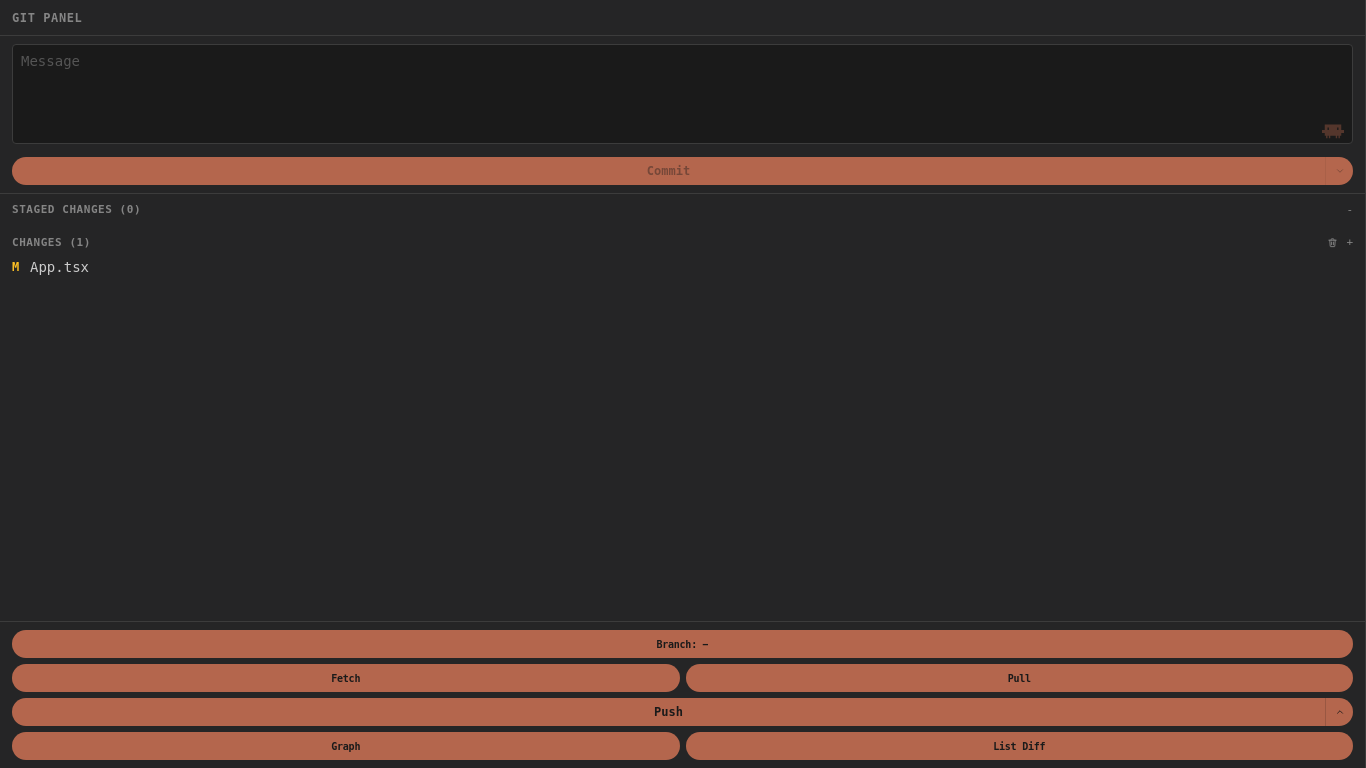
Test case: GitPanel — Discard All Changes › opens a confirmation modal instead of discarding immediately
Step 1. Click the button named "Discard All Changes" → (1333, 243), box left=1327, top=237, right=1338, bottom=248
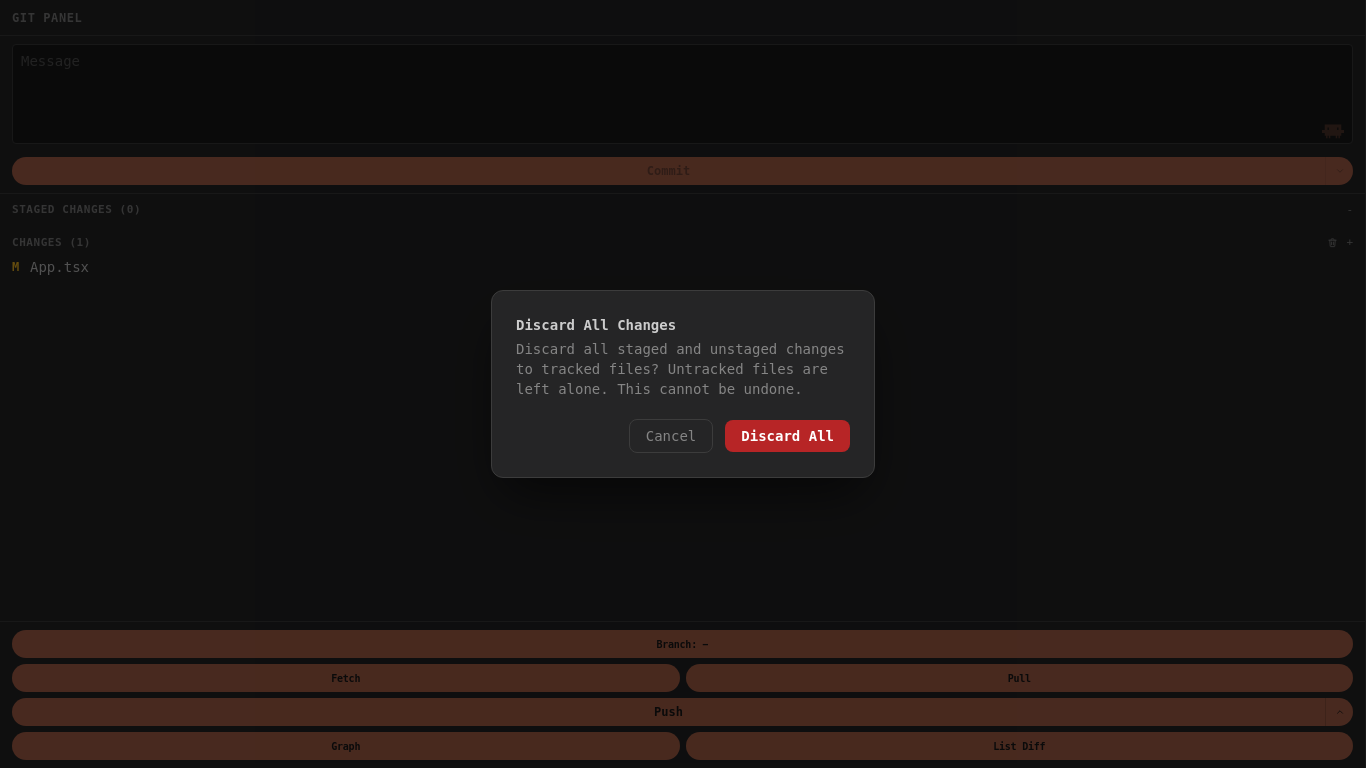
Expected: the heading "Discard All Changes" is shown, left=516, top=317, right=676, bottom=333
